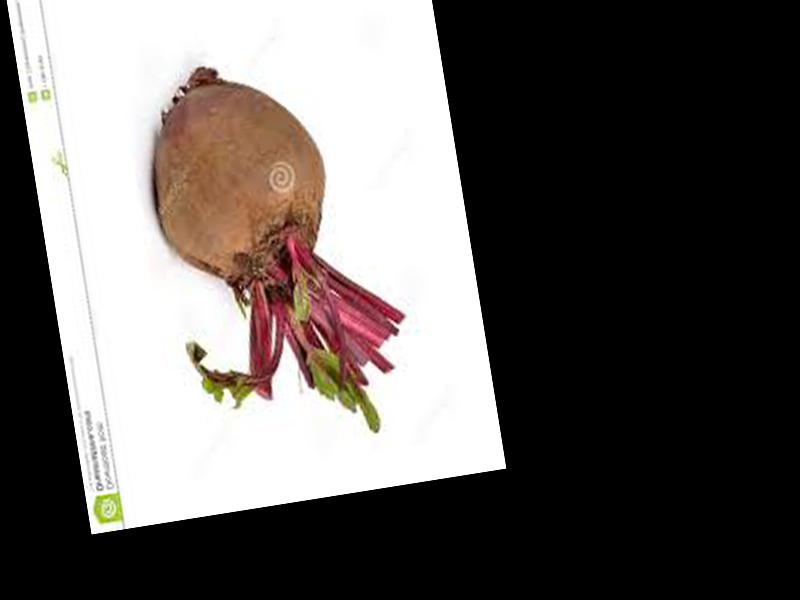Beet: (138, 41, 419, 458)
